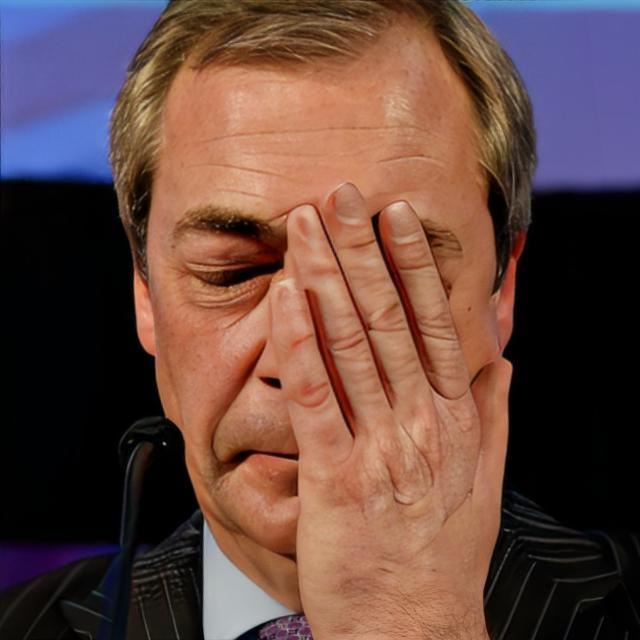sad: (146, 49, 499, 556)
